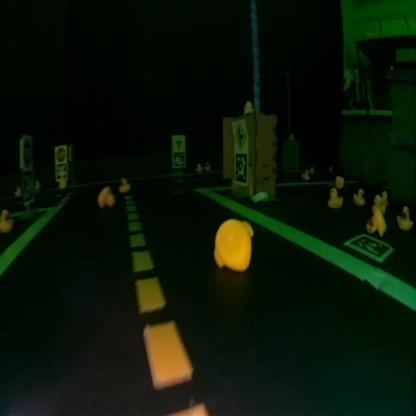Duckie: (214, 218, 252, 269), (365, 211, 385, 236), (396, 205, 412, 230), (98, 186, 113, 206), (327, 187, 342, 207), (0, 208, 11, 231), (371, 196, 384, 212), (354, 188, 364, 204), (118, 178, 129, 192), (302, 168, 308, 179), (196, 163, 202, 171)
Intersection sign: (233, 126, 248, 150), (175, 138, 183, 150)
QR code: (346, 234, 392, 261), (234, 154, 246, 181), (56, 163, 66, 176), (173, 152, 182, 166)
Stop sign: (55, 148, 66, 161)
